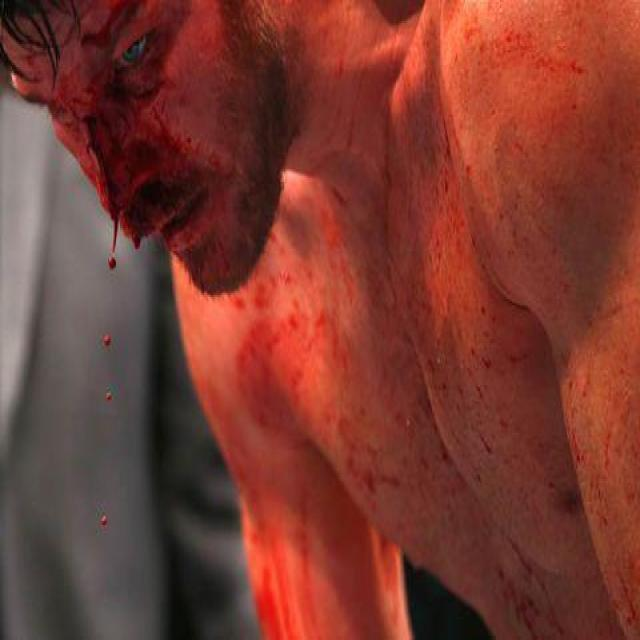flood: (97, 191, 129, 294)
